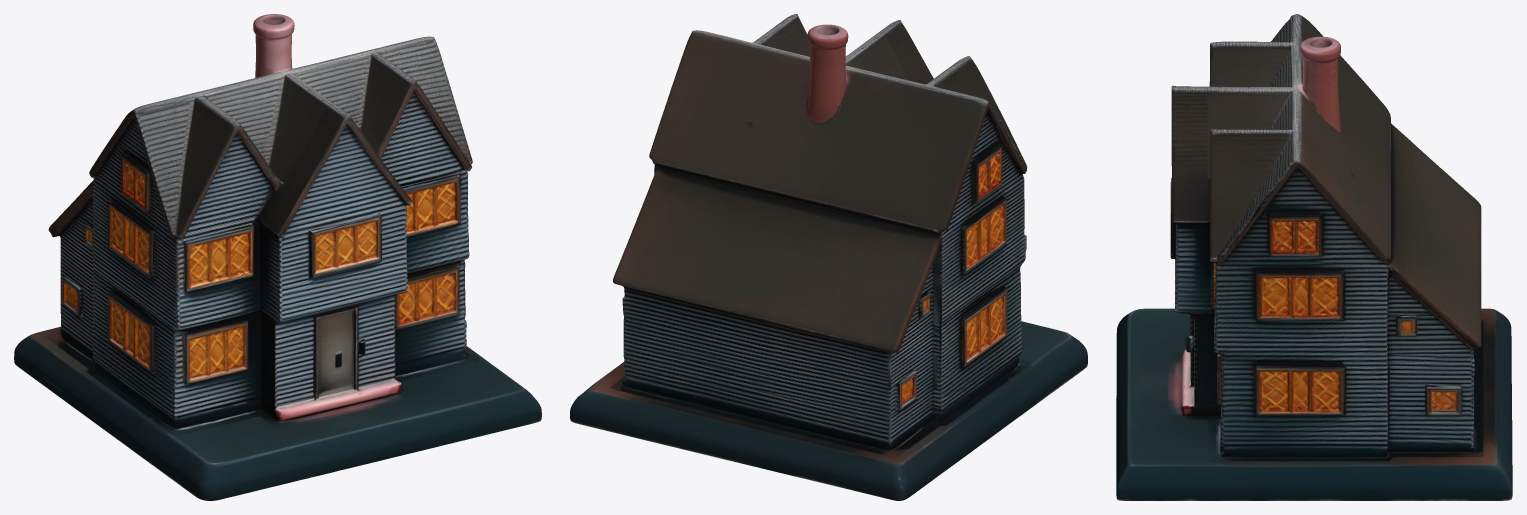
The model's file is removable-house.glb.
3 views of the same model, side by side, from view 1: azimuth 30°, elevation 25°; view 2: azimuth 150°, elevation 25°; view 3: azimuth 270°, elevation 25° (orthographic). The views are drawn at different scales.
Parts seen in each view (by area): view 1: node_0; view 2: node_0; view 3: node_0.
Boxes of the visible parts, x1,y1,x2,y2 form: node_0: [14, 14, 541, 500]; node_0: [570, 14, 1087, 500]; node_0: [1116, 14, 1512, 500].
Size of the model in its own units: 0.688 by 0.718 by 0.6869.
1 material, 1 textured.
